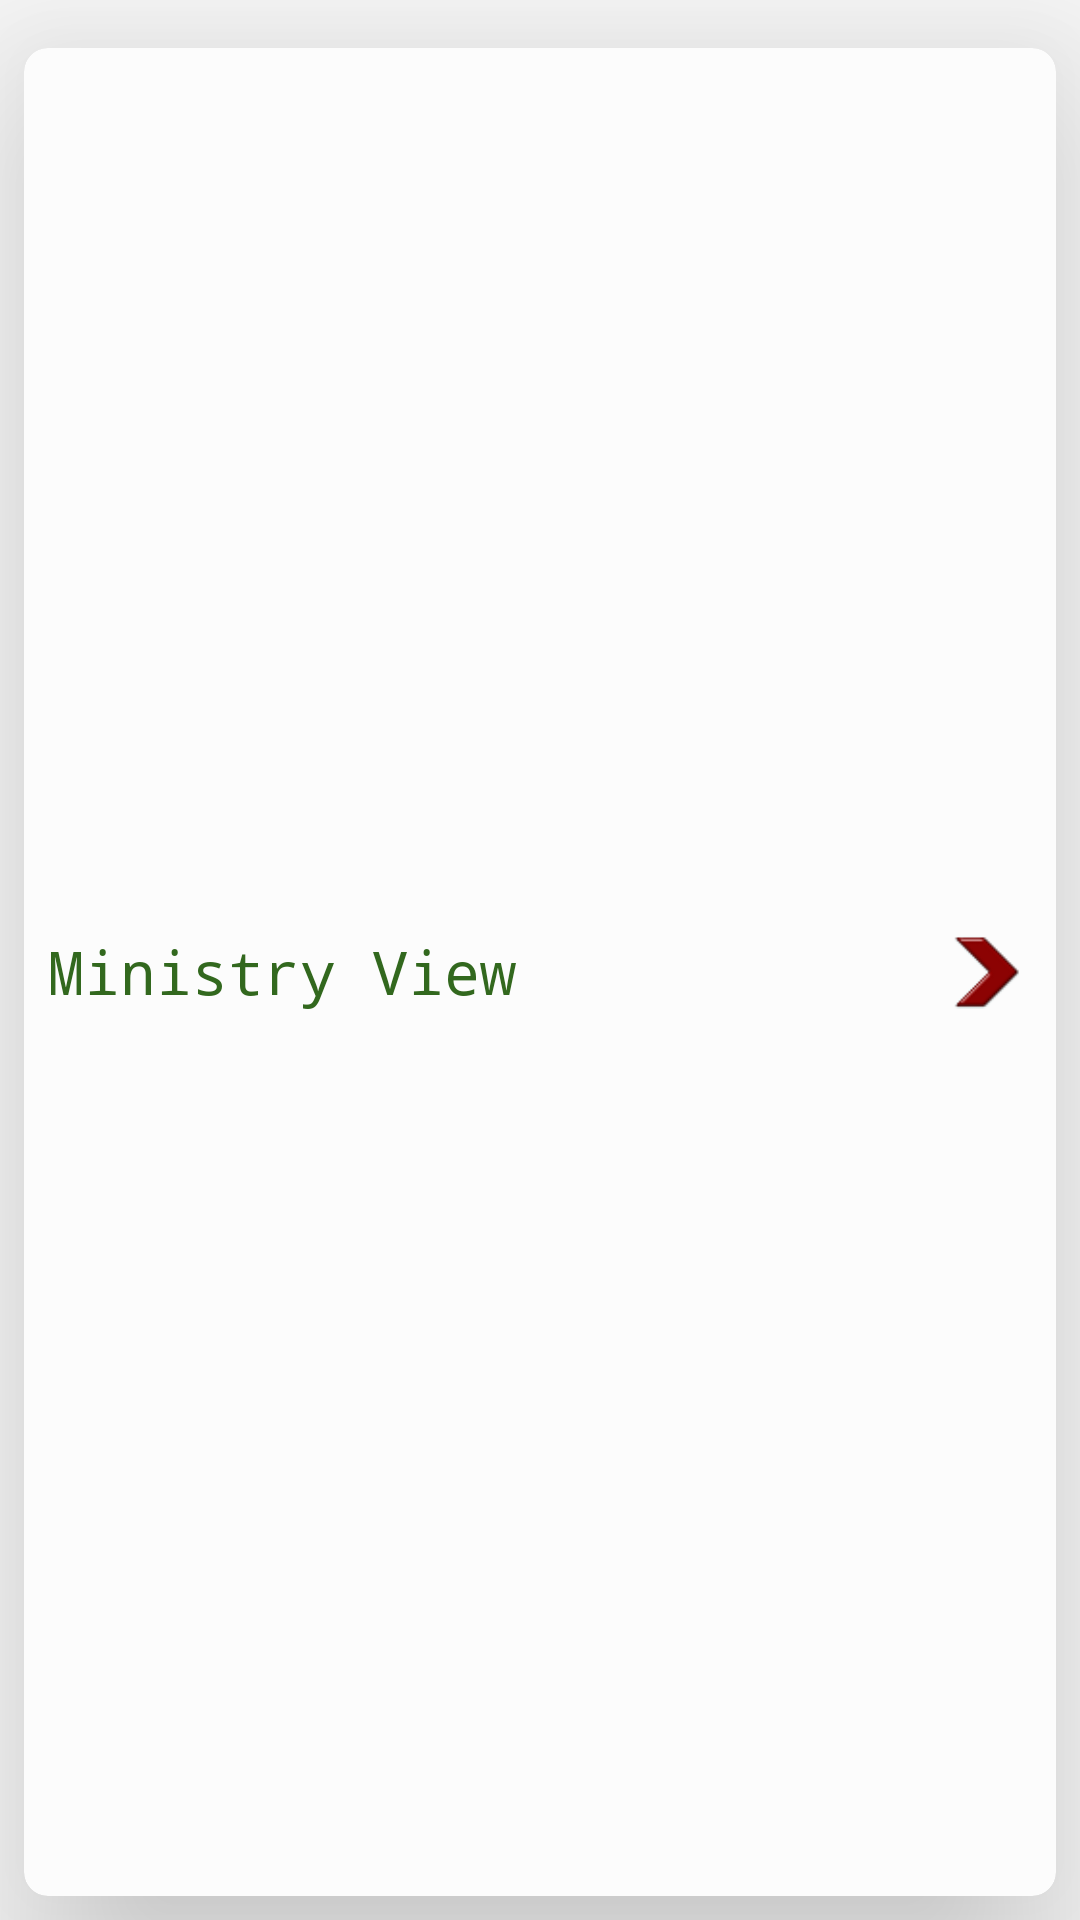

Icons on this 1080px x 1920px Android screen, each with the point to tap as (x=x, y=y):
rightarrow: (x=987, y=972)
